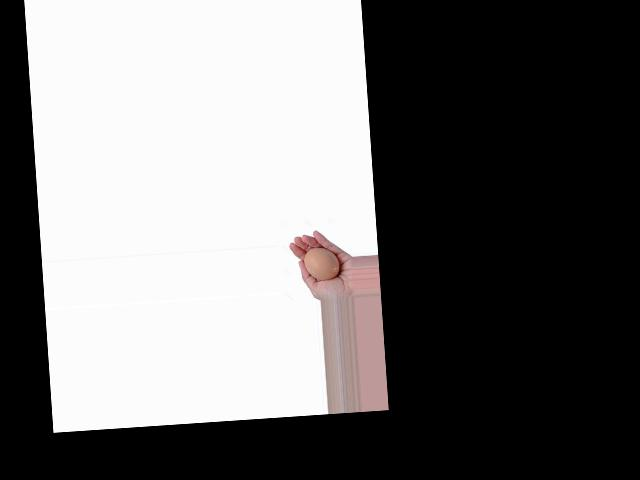egg: (303, 245, 340, 281)
